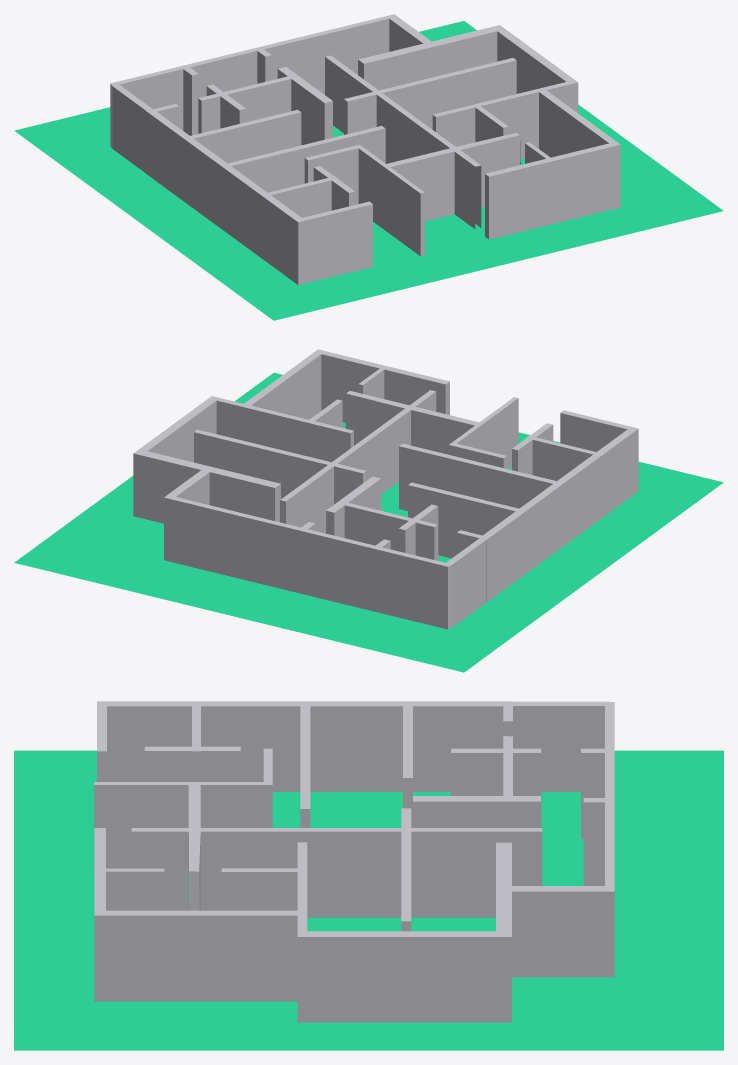
Rendered from Raumflucht komplett.fbx.
The picture shows the model from 3 angles, top to bottom: view 1: azimuth 30°, elevation 25°; view 2: azimuth 150°, elevation 25°; view 3: azimuth 270°, elevation 25°; orthographic projection. The views are drawn at different scales.
Parts seen in each view (by area): view 1: Cube, Fläche; view 2: Cube, Fläche; view 3: Cube, Fläche.
Part boxes in pixels (left/top/right/bottom): Cube: left=110, top=14, right=620, bottom=284; Fläche: left=14, top=21, right=723, bottom=320; Cube: left=133, top=349, right=638, bottom=629; Fläche: left=14, top=372, right=723, bottom=672; Cube: left=94, top=701, right=614, bottom=1022; Fläche: left=14, top=750, right=723, bottom=1050.
Bounding box in the file's own units: 3000 × 403 × 3000.
